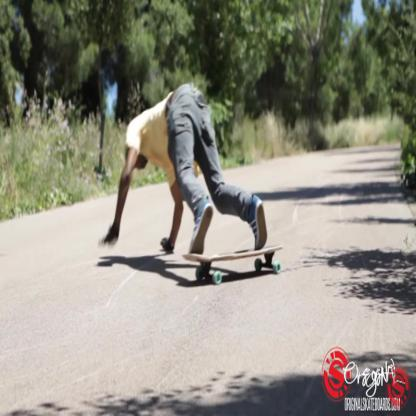Fall_Down: (99, 79, 269, 259)
